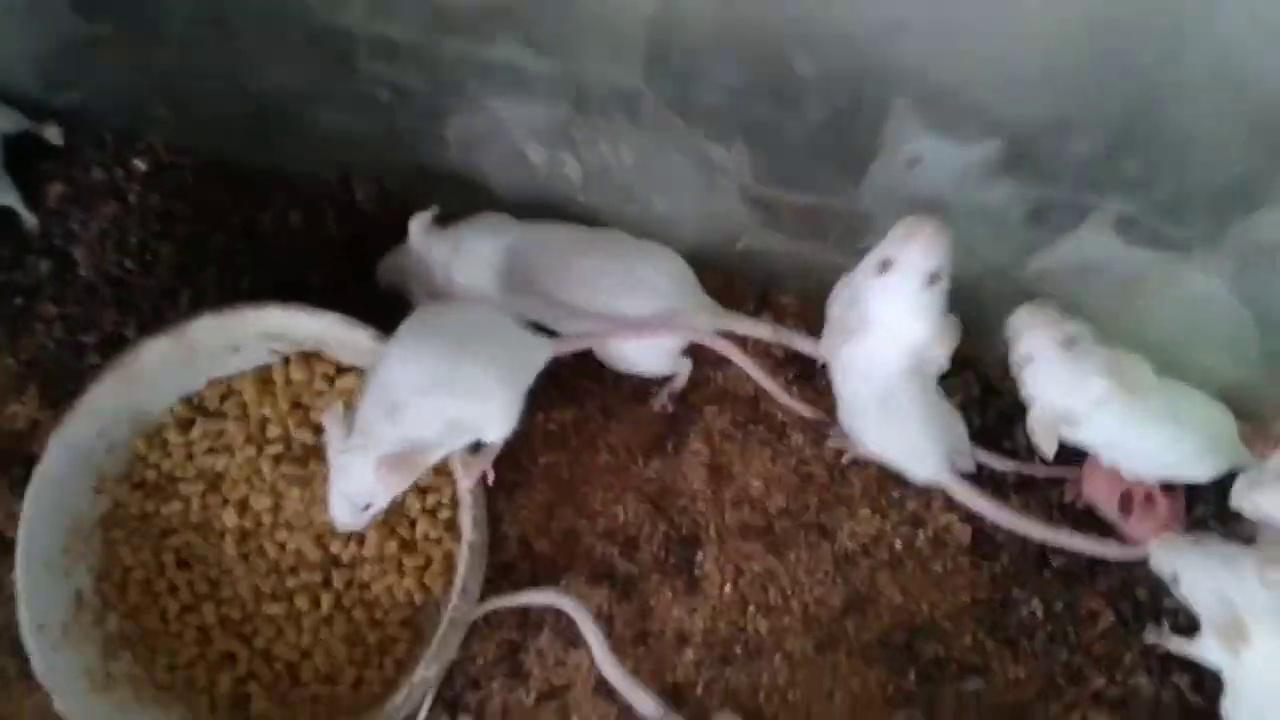rat: (322, 301, 828, 531), (827, 214, 1146, 558), (378, 206, 824, 412), (1006, 296, 1258, 479), (1148, 529, 1280, 720)
